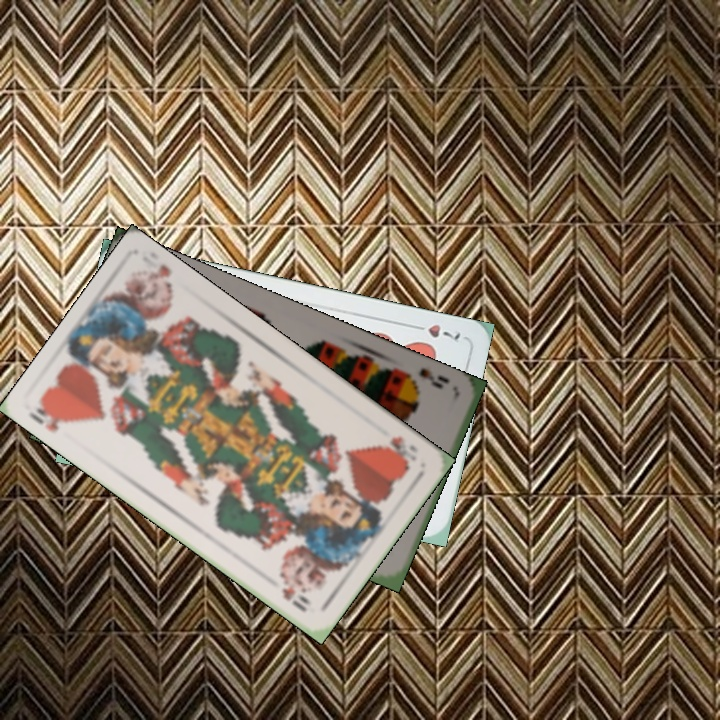H7: (406, 320, 463, 343)
HO: (380, 432, 421, 470), (25, 403, 75, 434)
S9: (398, 363, 452, 391)
